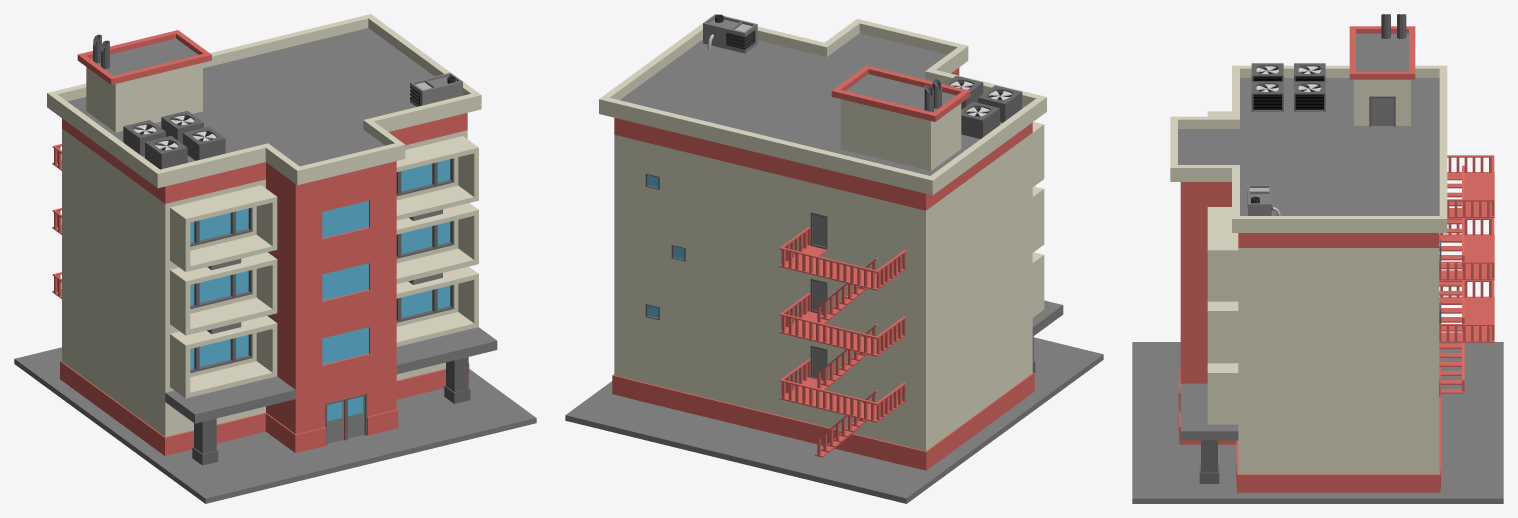
File: RedApartmentComplex.fbx
The picture shows the model from 3 angles, left to right: view 1: azimuth 30°, elevation 25°; view 2: azimuth 150°, elevation 25°; view 3: azimuth 270°, elevation 25°; orthographic projection. The views are drawn at different scales.
Visible parts, largest first — view 1: RedApartmentComplexMerged; view 2: RedApartmentComplexMerged; view 3: RedApartmentComplexMerged.
Boxes of the visible parts, x1=… form: RedApartmentComplexMerged: x1=14, y1=14, x2=536, y2=503; RedApartmentComplexMerged: x1=565, y1=14, x2=1103, y2=503; RedApartmentComplexMerged: x1=1132, y1=14, x2=1503, y2=503.
Size of the model in its own units: 700 by 725 by 700.
